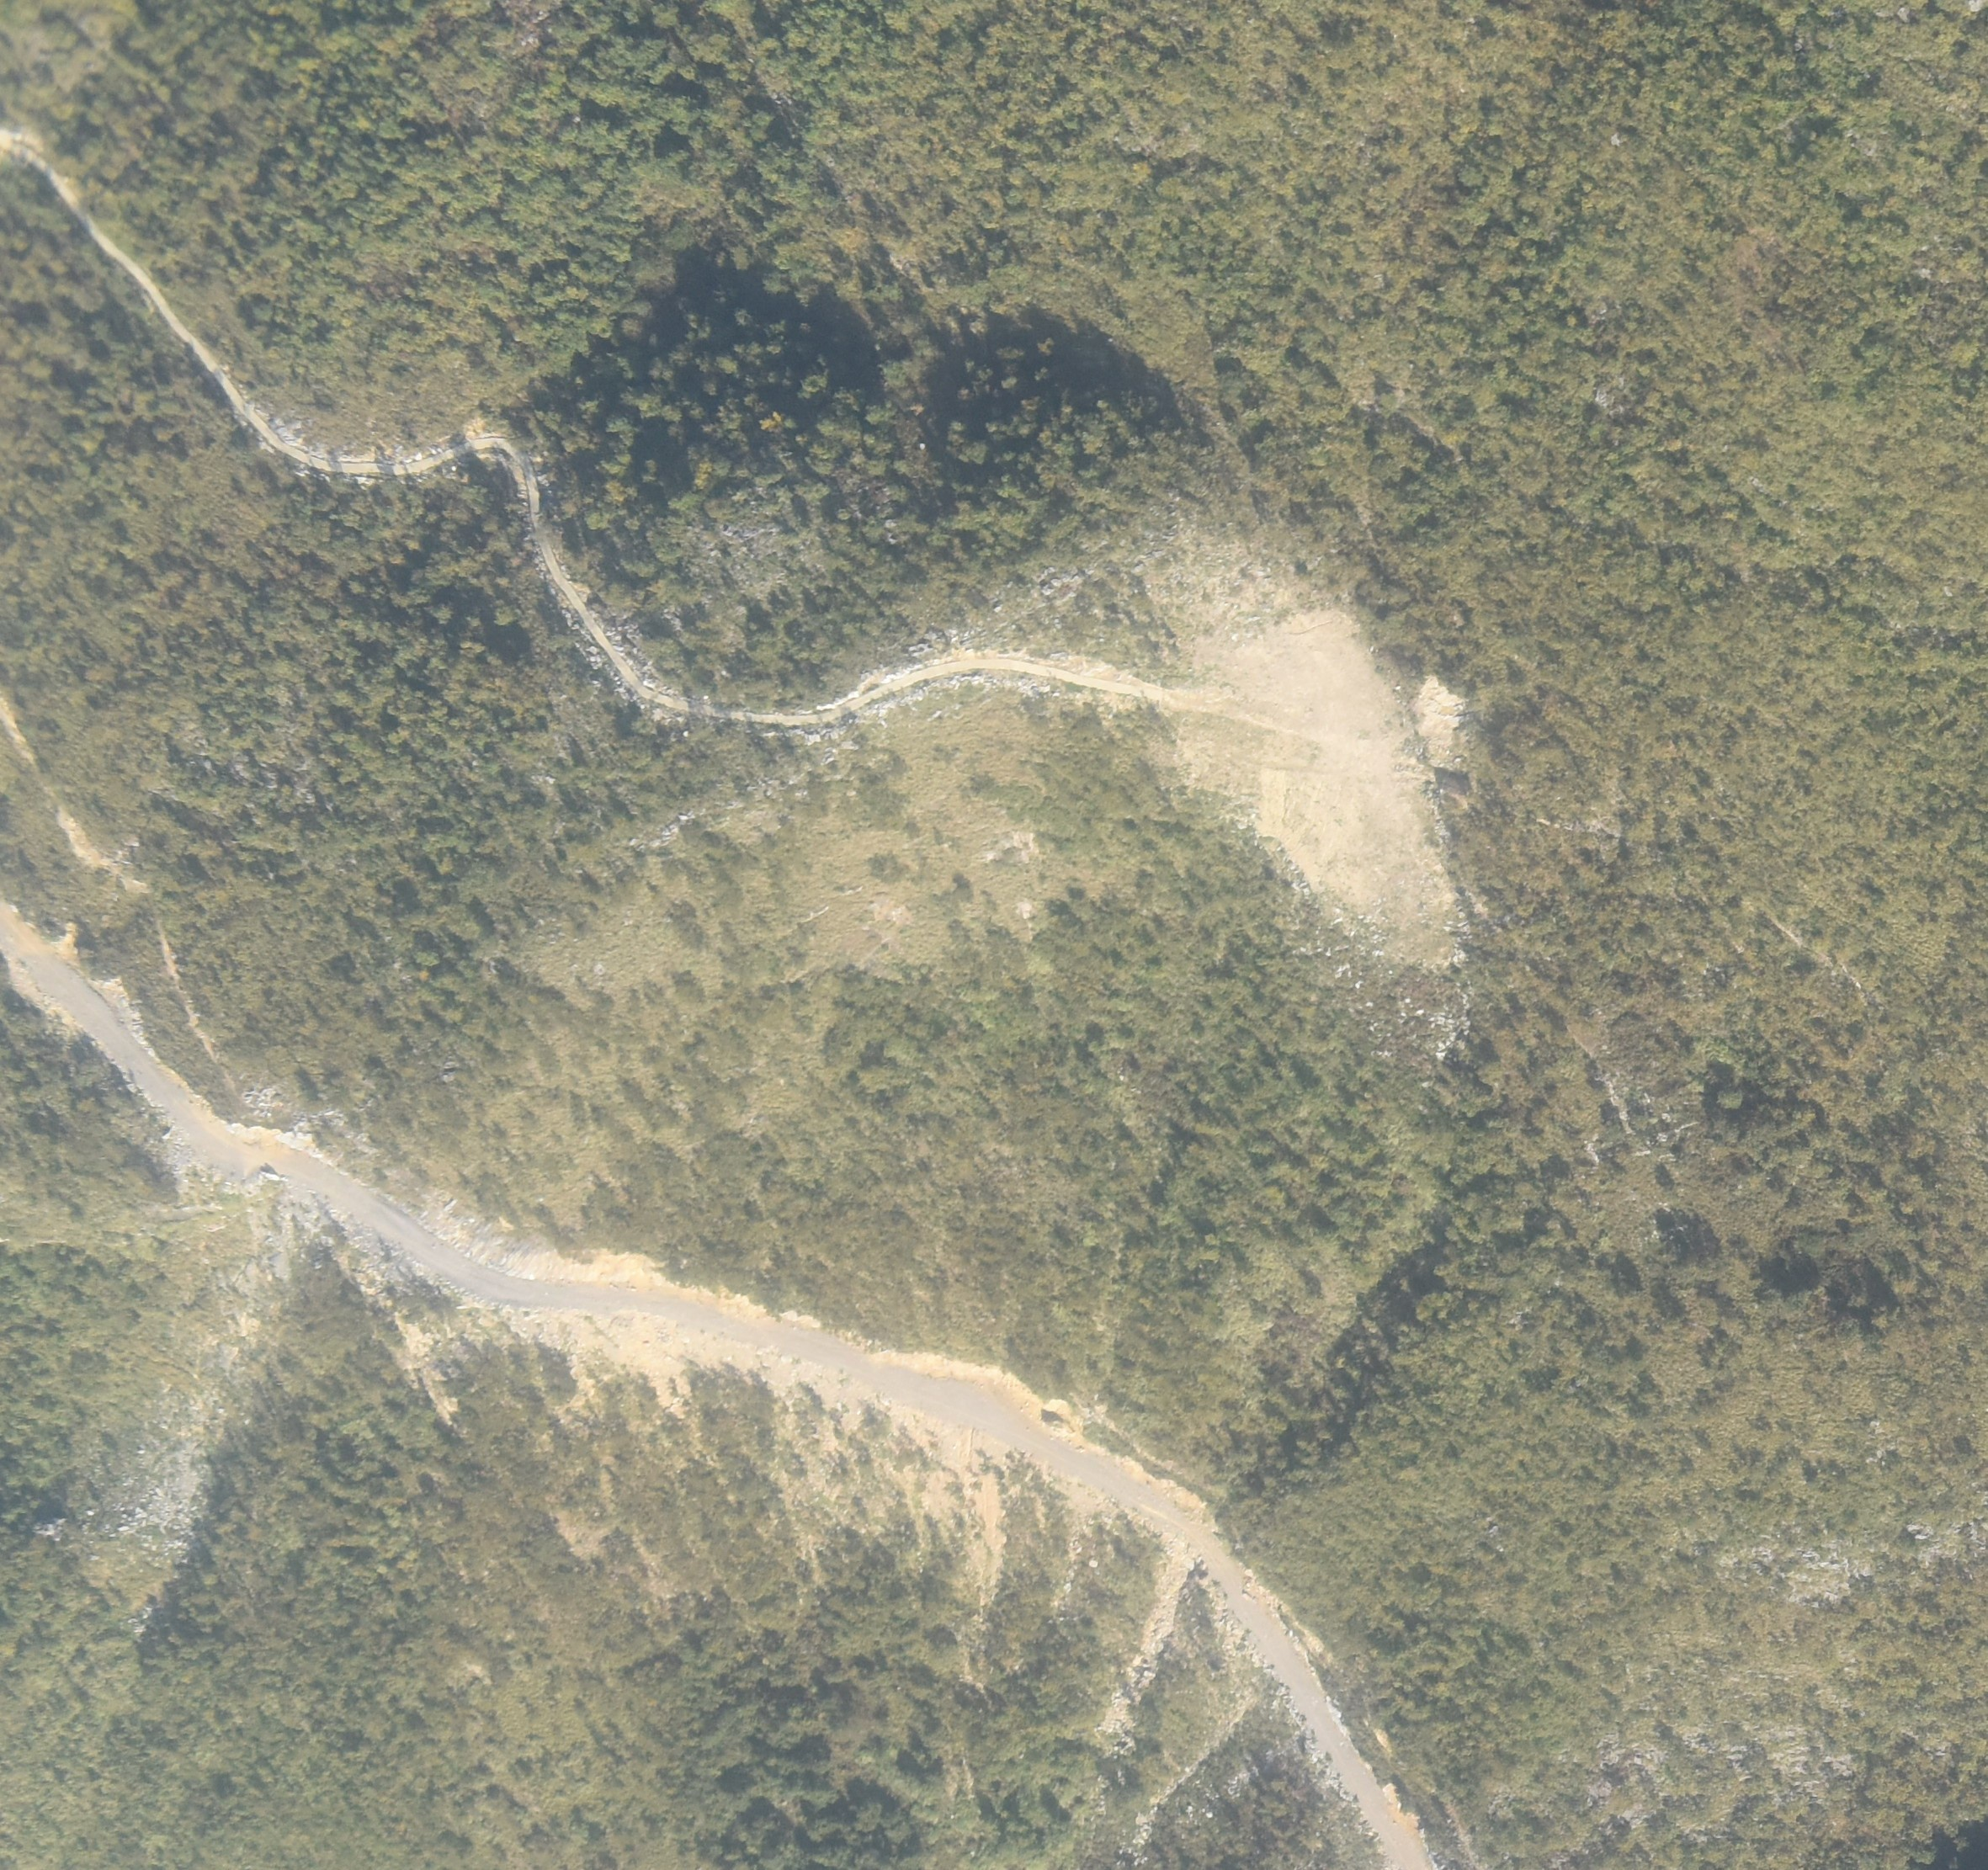quarry: (1164, 587, 1469, 977)
